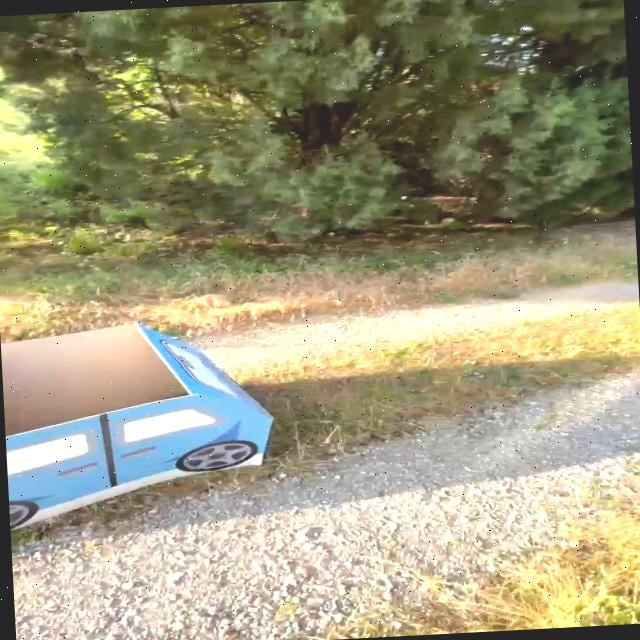blue_car: (0, 293, 310, 547)
